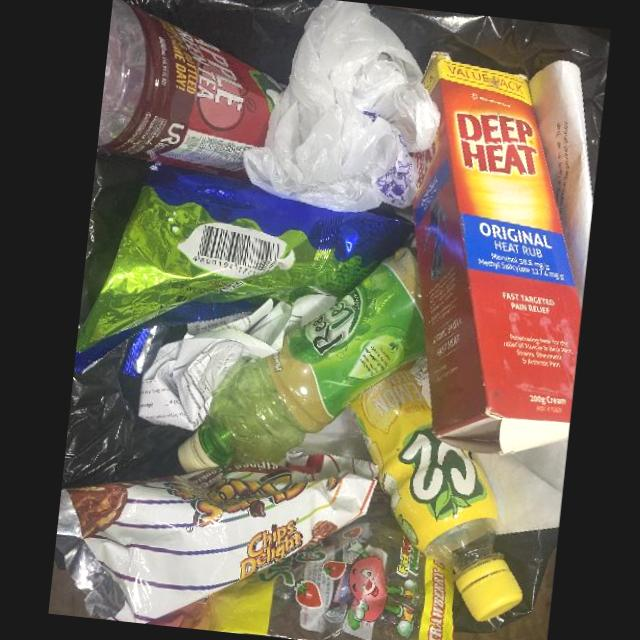bao_bi_thuc_pham: (76, 163, 411, 376), (54, 454, 379, 623), (156, 478, 455, 640)
carton: (409, 51, 581, 454)
chai_nhua: (176, 236, 422, 474)
chai_nhua_pet: (351, 352, 524, 621), (97, 0, 284, 173)
giay: (141, 293, 338, 432)
tui_ni_long: (241, 0, 440, 211)
